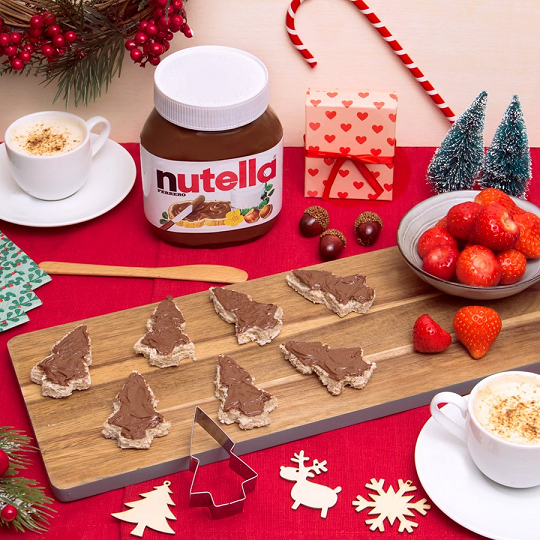nutella: (137, 44, 282, 251)
